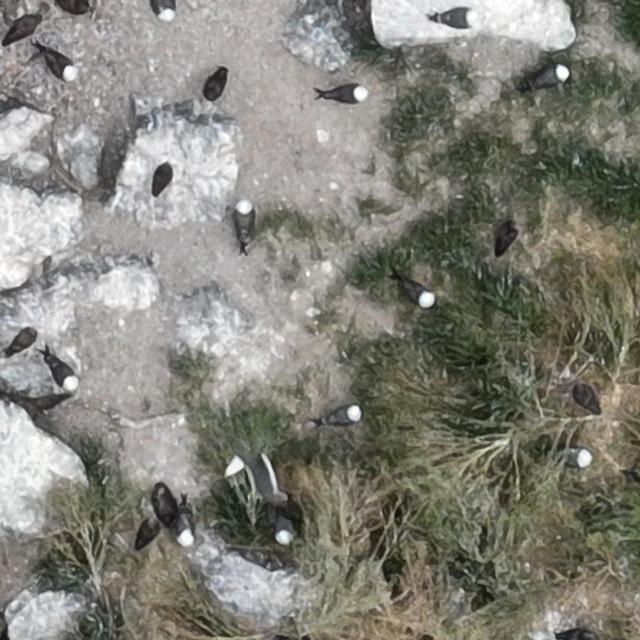umineko: (47, 357, 75, 387), (46, 52, 74, 78), (403, 284, 432, 308), (536, 64, 567, 85), (436, 10, 472, 28), (328, 86, 366, 103), (235, 204, 252, 242), (327, 406, 359, 424), (178, 510, 195, 543), (568, 447, 594, 466), (206, 74, 225, 99), (275, 519, 293, 543), (156, 0, 174, 20)
